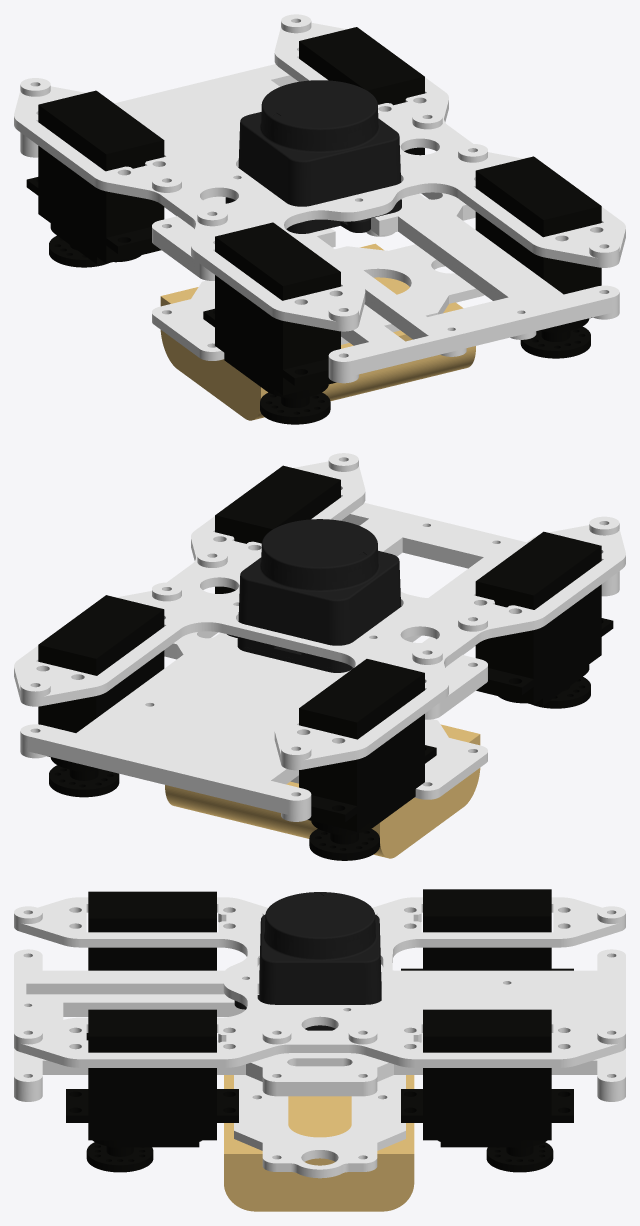
The model's file is rover_base.dae.
3 renders of one model, top to bottom at view 1: azimuth 30°, elevation 25°; view 2: azimuth 150°, elevation 25°; view 3: azimuth 270°, elevation 25°, orthographic. The views are drawn at different scales.
Visible parts, largest first — view 1: node_b3e817e0_854e_4e6d_9a7f_1231a8ececbd_mesh4, node_b3e817e0_854e_4e6d_9a7f_1231a8ececbd_mesh5, node_b3e817e0_854e_4e6d_9a7f_1231a8ececbd_mesh2, node_b3e817e0_854e_4e6d_9a7f_1231a8ececbd_mesh3; view 2: node_b3e817e0_854e_4e6d_9a7f_1231a8ececbd_mesh4, node_b3e817e0_854e_4e6d_9a7f_1231a8ececbd_mesh5, node_b3e817e0_854e_4e6d_9a7f_1231a8ececbd_mesh2, node_b3e817e0_854e_4e6d_9a7f_1231a8ececbd_mesh3; view 3: node_b3e817e0_854e_4e6d_9a7f_1231a8ececbd_mesh4, node_b3e817e0_854e_4e6d_9a7f_1231a8ececbd_mesh5, node_b3e817e0_854e_4e6d_9a7f_1231a8ececbd_mesh2, node_b3e817e0_854e_4e6d_9a7f_1231a8ececbd_mesh3.
Part boxes in pixels (box(x1,y1,x2,y2)): node_b3e817e0_854e_4e6d_9a7f_1231a8ececbd_mesh4: box(14, 14, 625, 383); node_b3e817e0_854e_4e6d_9a7f_1231a8ececbd_mesh5: box(26, 27, 601, 424); node_b3e817e0_854e_4e6d_9a7f_1231a8ececbd_mesh2: box(225, 80, 401, 233); node_b3e817e0_854e_4e6d_9a7f_1231a8ececbd_mesh3: box(160, 243, 475, 420); node_b3e817e0_854e_4e6d_9a7f_1231a8ececbd_mesh4: box(14, 453, 625, 821); node_b3e817e0_854e_4e6d_9a7f_1231a8ececbd_mesh5: box(38, 465, 613, 860); node_b3e817e0_854e_4e6d_9a7f_1231a8ececbd_mesh2: box(227, 519, 401, 672); node_b3e817e0_854e_4e6d_9a7f_1231a8ececbd_mesh3: box(165, 724, 480, 858); node_b3e817e0_854e_4e6d_9a7f_1231a8ececbd_mesh4: box(14, 897, 625, 1178); node_b3e817e0_854e_4e6d_9a7f_1231a8ececbd_mesh5: box(66, 889, 573, 1172); node_b3e817e0_854e_4e6d_9a7f_1231a8ececbd_mesh2: box(234, 892, 381, 1030); node_b3e817e0_854e_4e6d_9a7f_1231a8ececbd_mesh3: box(224, 1075, 414, 1211).
Size of the model in its own units: 121 by 193 by 86.31.
